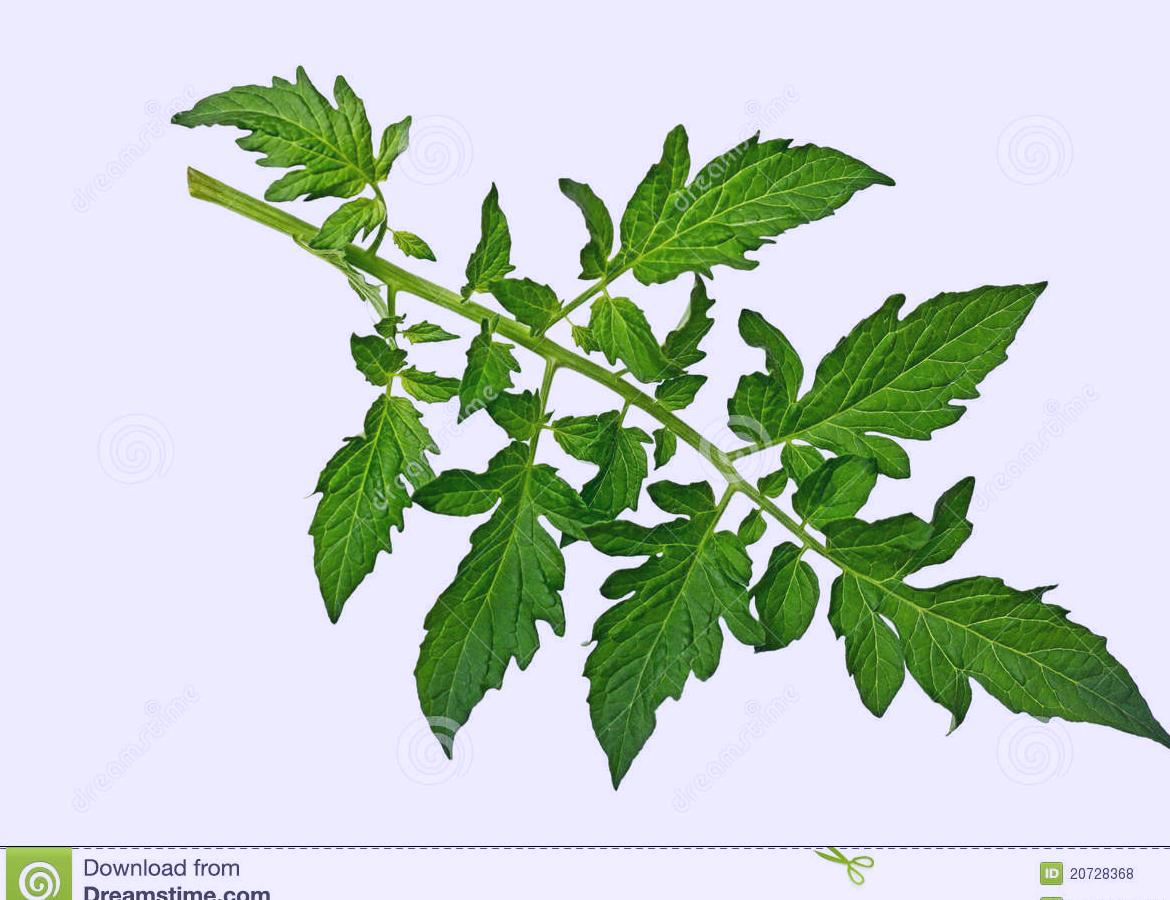Tomato leaf: (388, 425, 605, 757), (856, 555, 1170, 771), (576, 463, 767, 797), (757, 277, 1074, 477), (562, 135, 936, 303), (162, 31, 436, 243), (280, 374, 468, 609)
